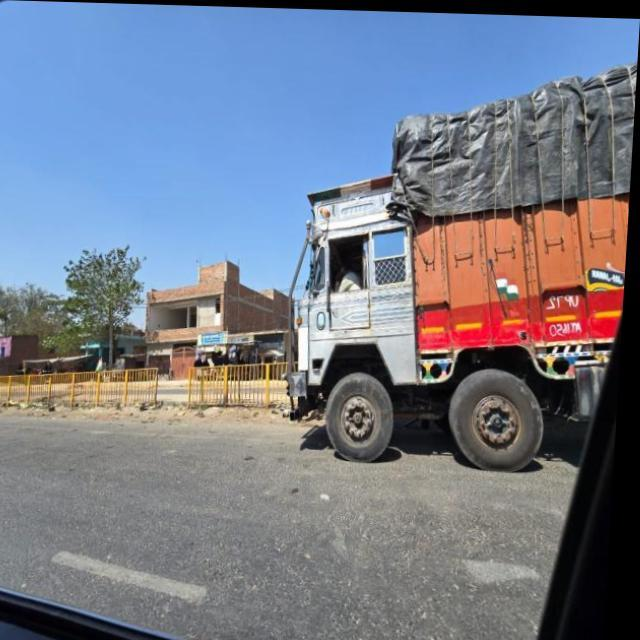covered: (324, 39, 638, 456)
